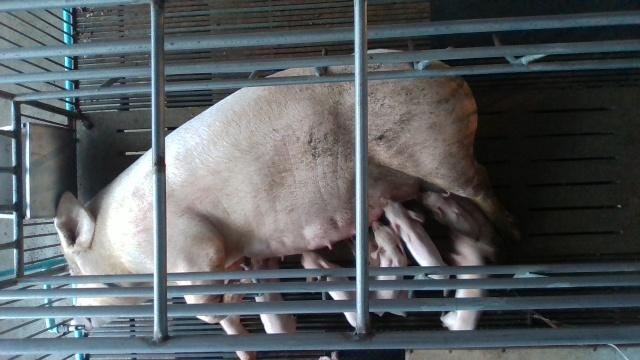piglet: (380, 197, 449, 279), (438, 233, 488, 332), (301, 251, 356, 327), (370, 220, 408, 315), (251, 257, 296, 334), (421, 191, 480, 241)
sow-sleep-lactate: (57, 49, 530, 360)
